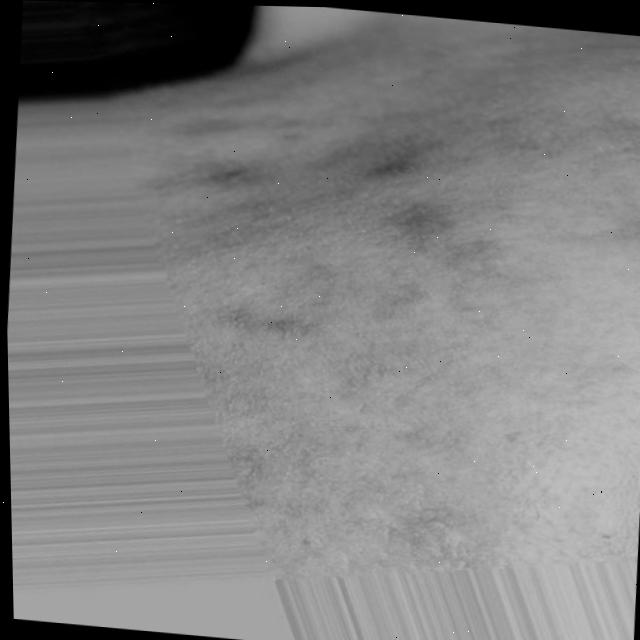Rosacea: (236, 130, 552, 475)
